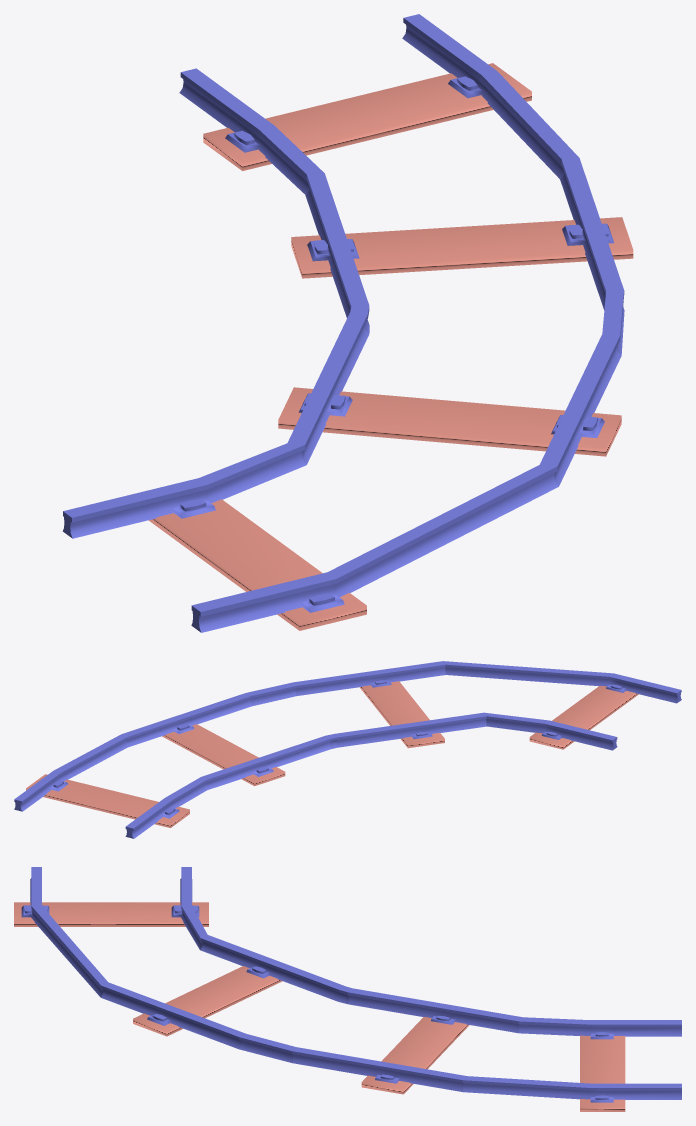
The model's file is RailsVirageB_Low.fbx.
The picture shows the model from 3 angles, top to bottom: view 1: azimuth 30°, elevation 25°; view 2: azimuth 150°, elevation 25°; view 3: azimuth 270°, elevation 25°; orthographic projection. The views are drawn at different scales.
Visible parts, largest first — view 1: RailsVir; view 2: RailsVir; view 3: RailsVir.
Part boxes in pixels (box(x1,y1,x2,y2)): RailsVir: box(62, 14, 633, 632); RailsVir: box(14, 661, 681, 838); RailsVir: box(14, 867, 681, 1111).
Size of the model in its own units: 23.76 by 29.4 by 0.8102.
